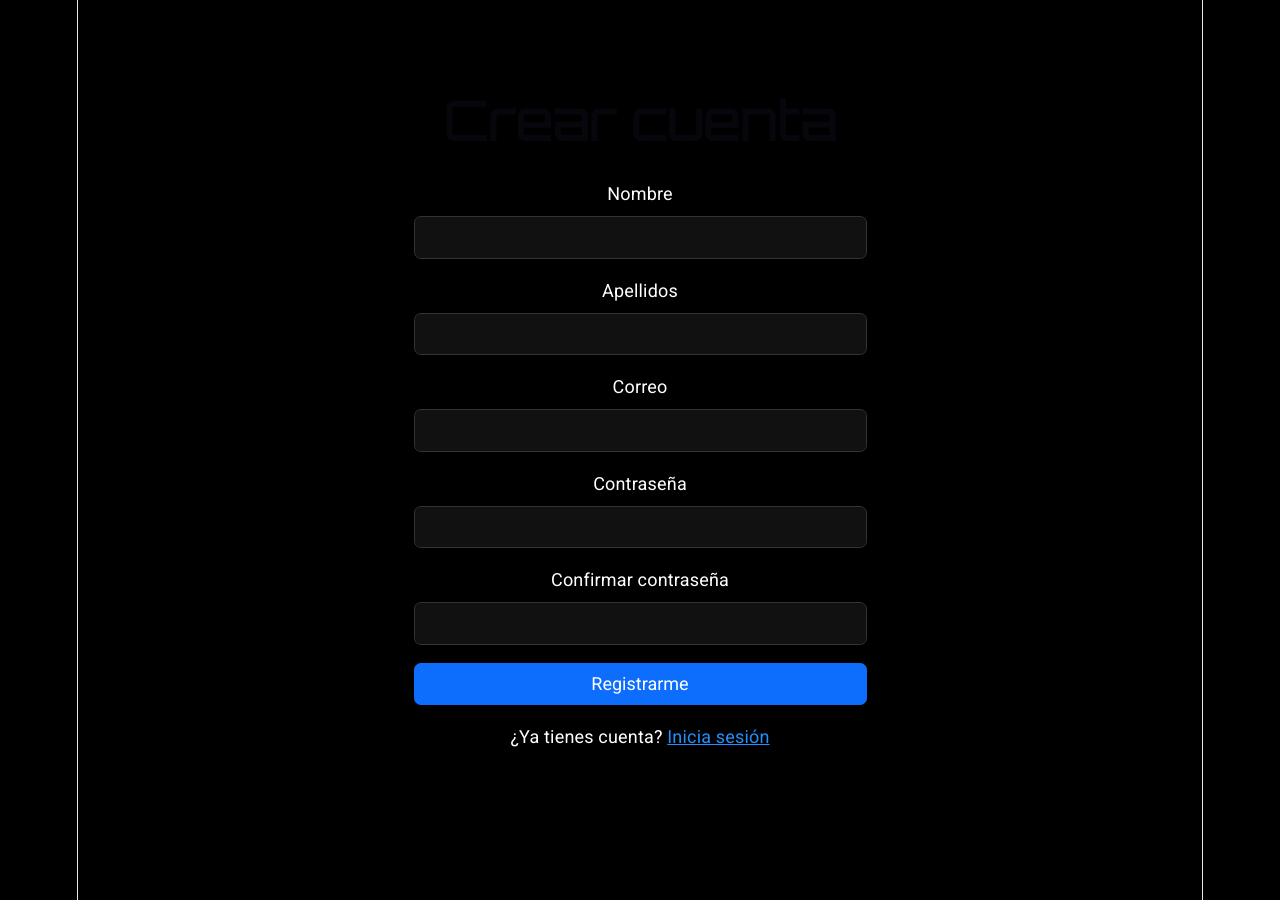
Test case: Registro › muestra error si el correo ya está registrado
The image size is (1280, 900).
Type "Ana" into the field labelled "Nombre" at (640, 237), box [414,216,866,259]
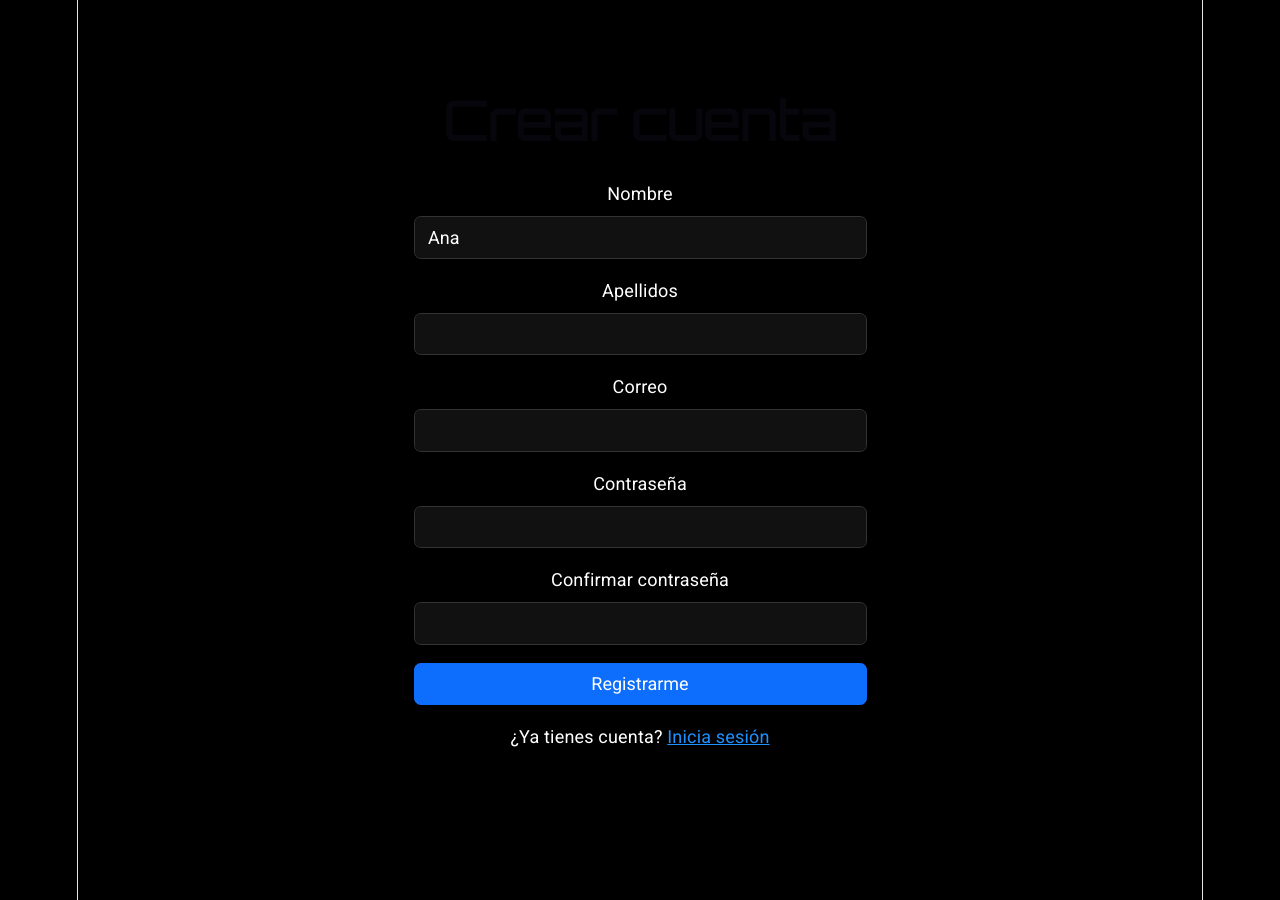
Type "Pérez" into the field labelled "Apellidos" at (640, 334), box [414,313,866,355]
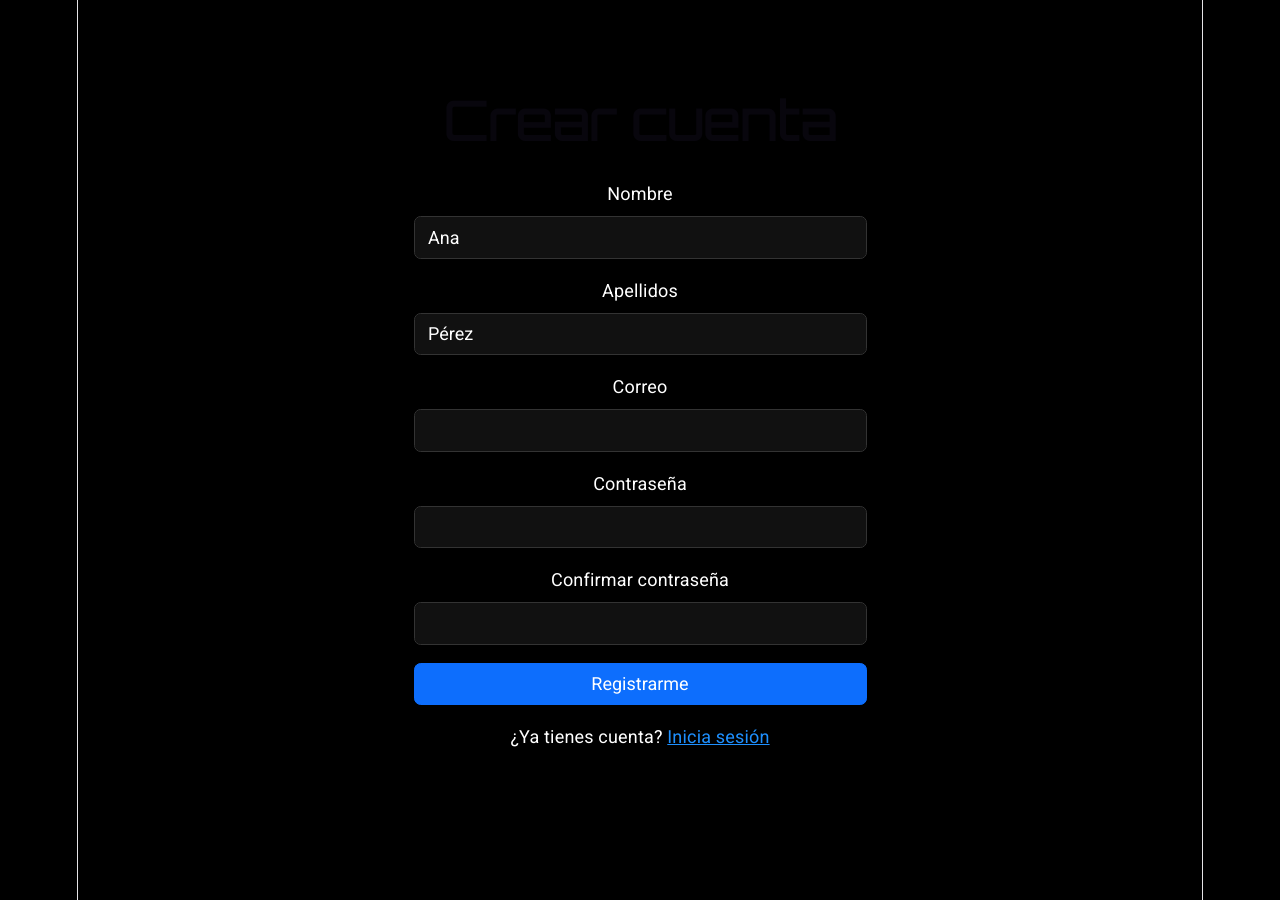
Type "ana@mail.com" into the field labelled "Correo" at (640, 430), box [414,409,866,452]
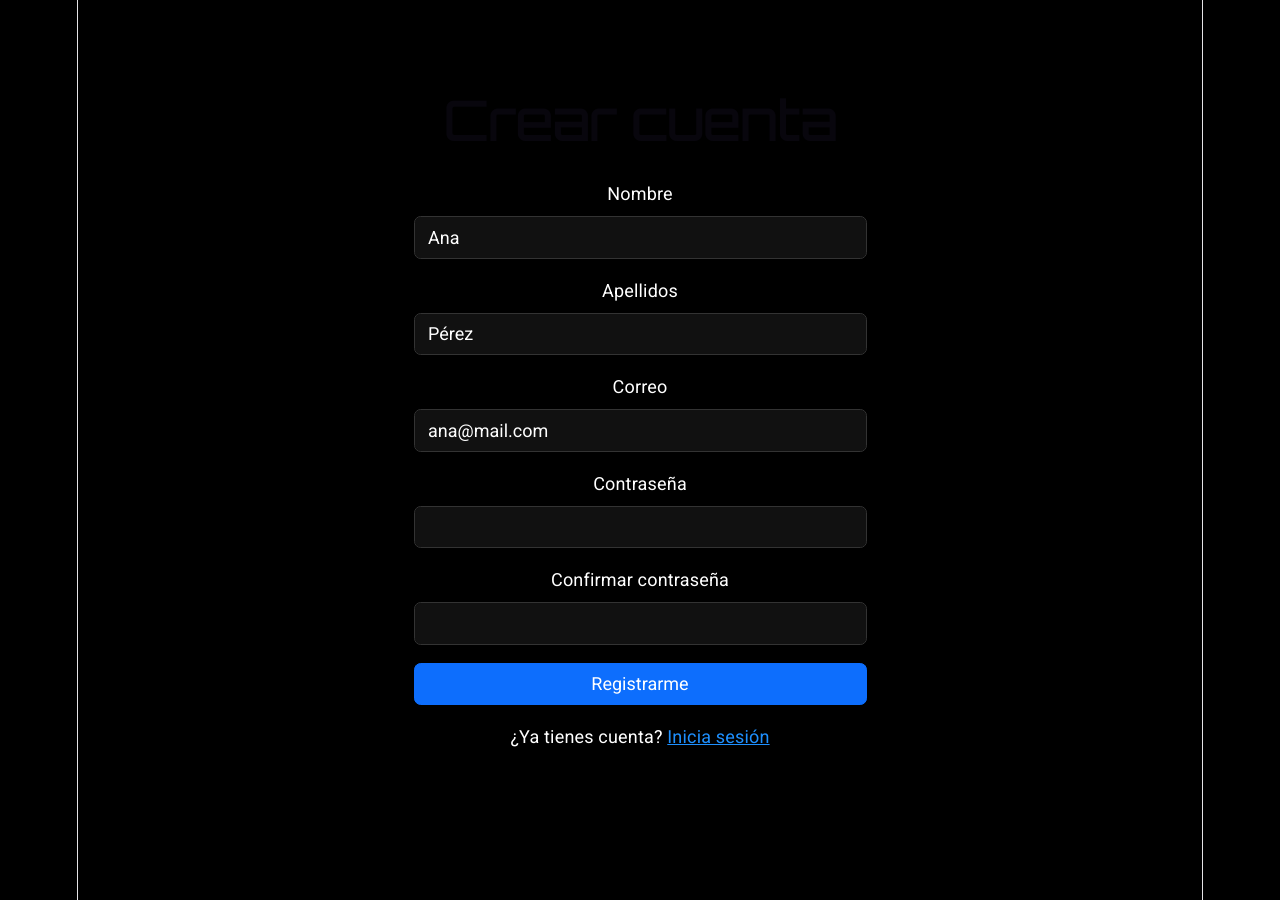
Type "123456" into the password field labelled "Contraseña" at (640, 527), box [414,506,866,548]
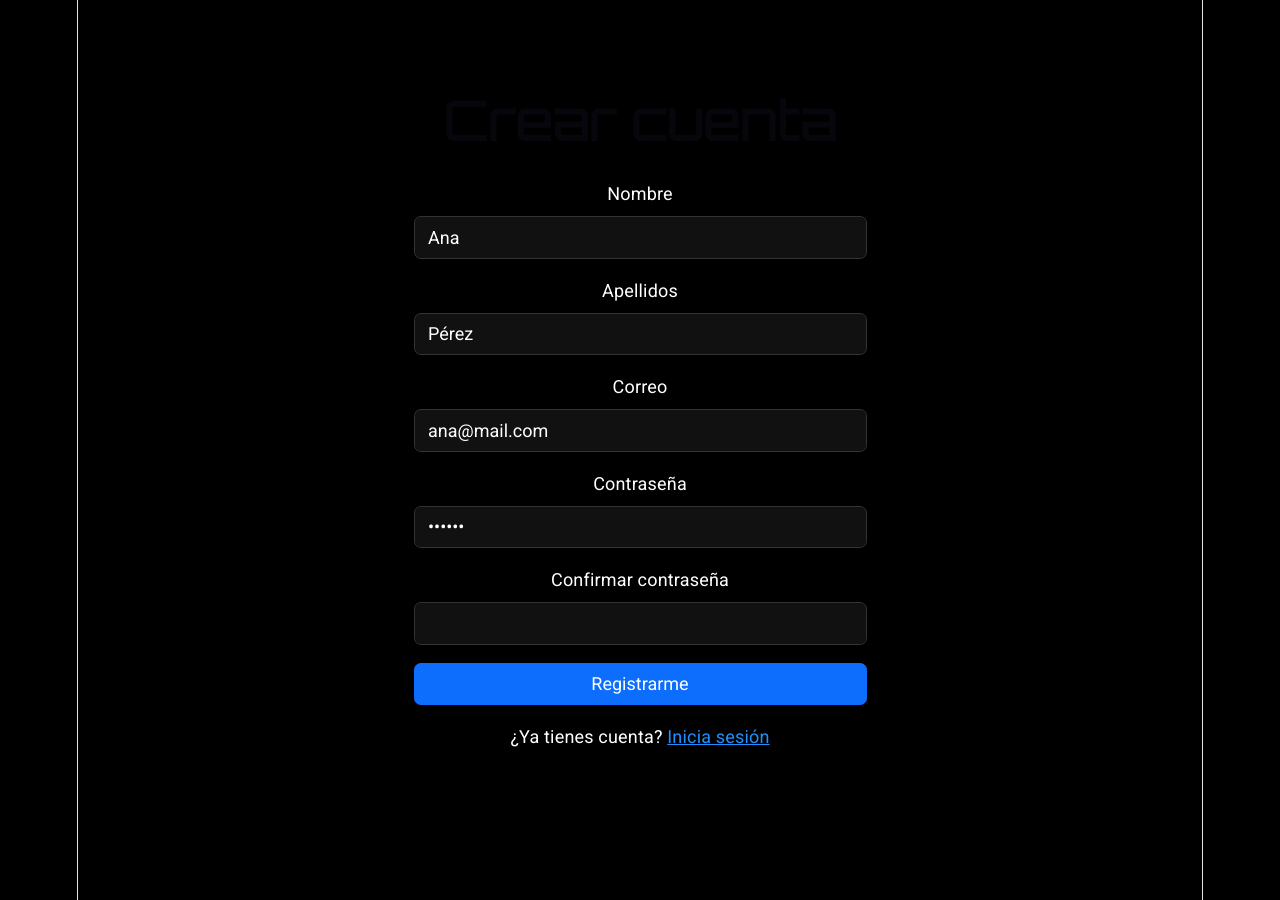
Type "123456" into the password field labelled "Confirmar contraseña" at (640, 623), box [414,602,866,645]
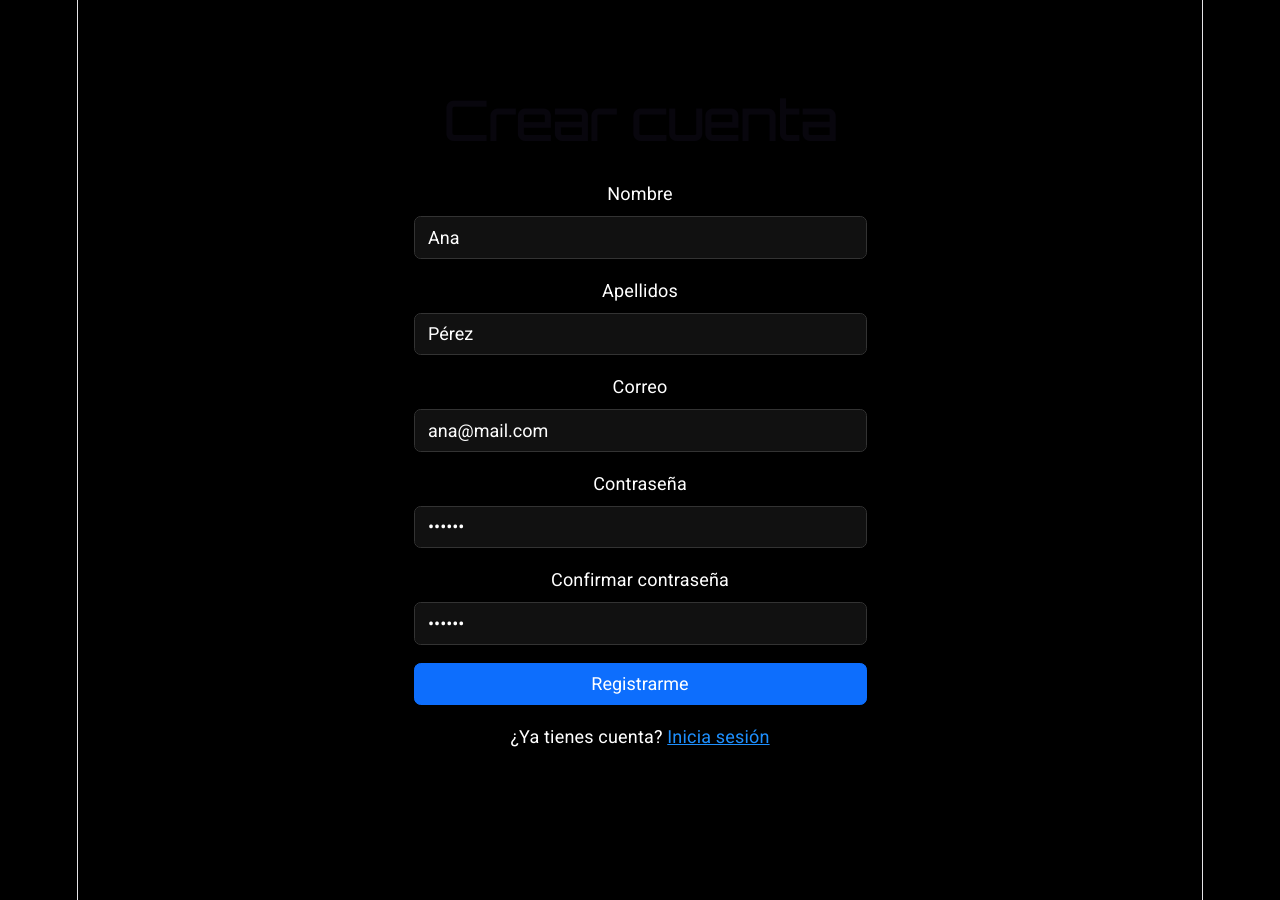
Click the button "Registrarme" at (640, 684), box [414,663,866,705]
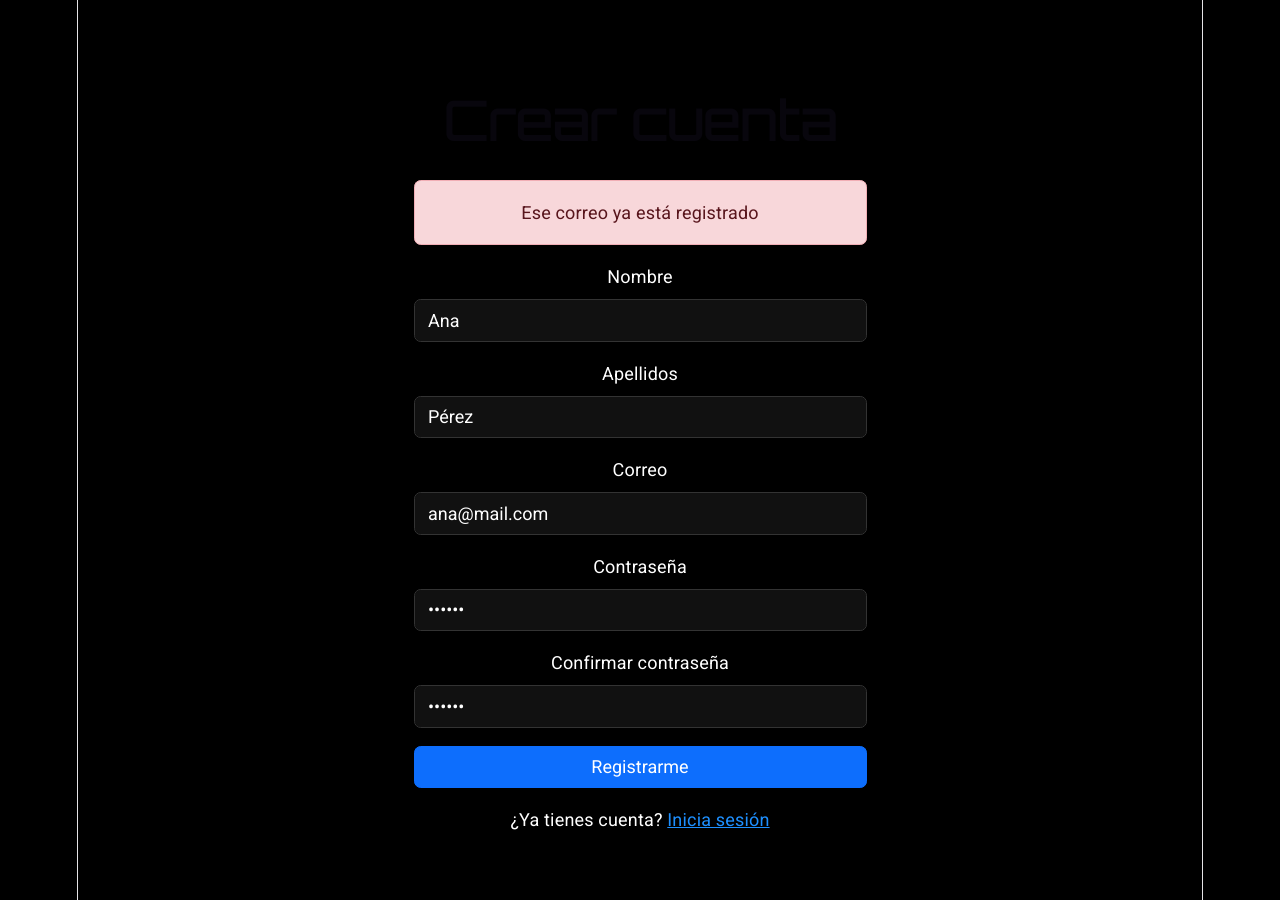
Result: the text "Ese correo ya está registrado" is shown at [414,180,866,245]
